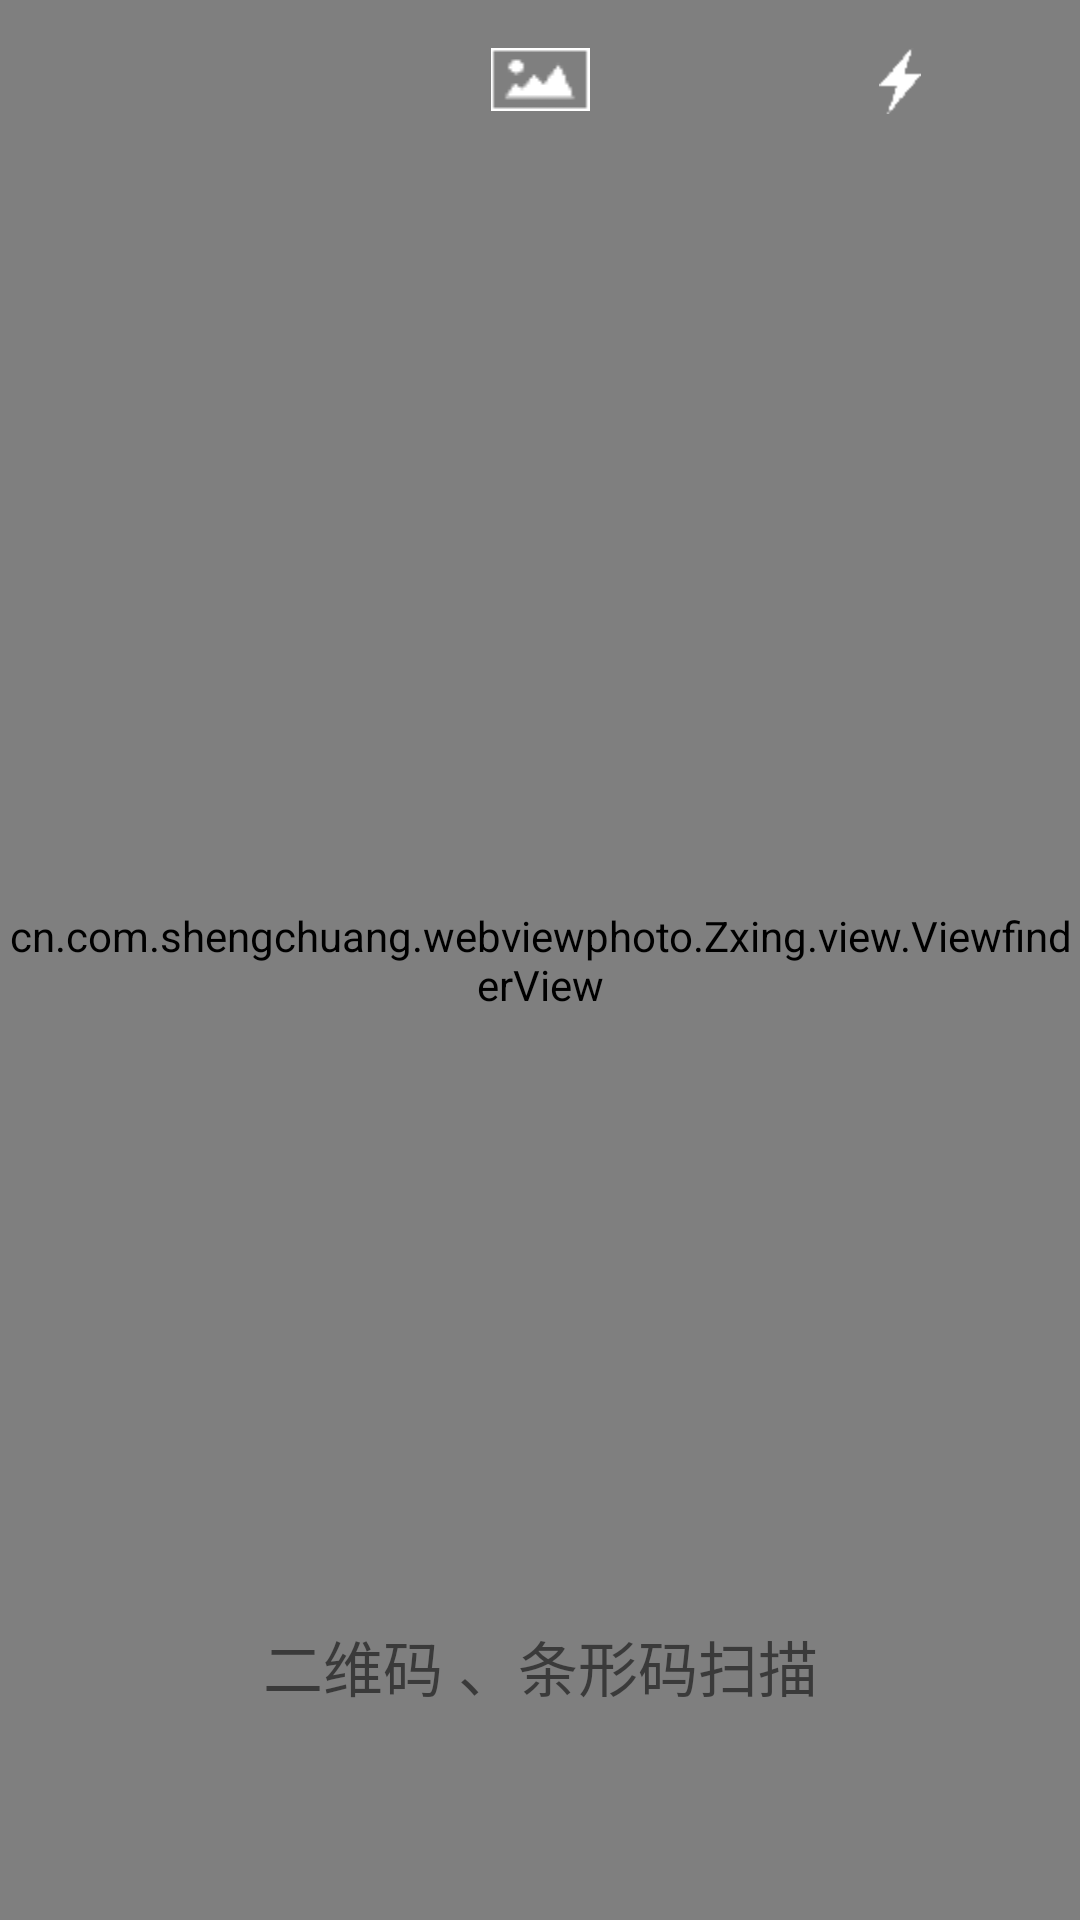

Named icons in this screenshot (1080*1920) and their centers, [x,y]:
mo scanner album: [540,79]
